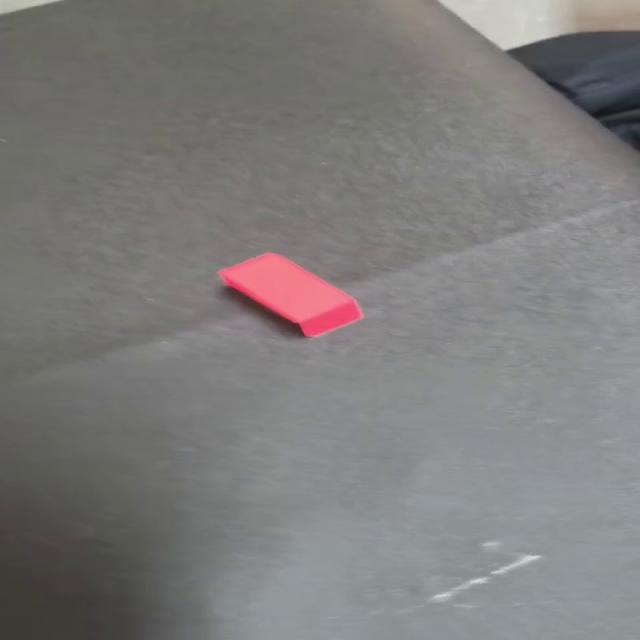red block: (216, 251, 364, 338)
